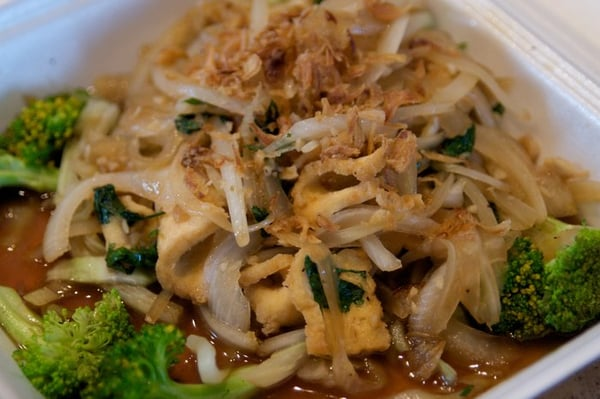curry: (4, 288, 260, 396), (10, 289, 190, 397), (492, 226, 600, 342), (0, 90, 89, 193), (92, 184, 162, 275)
sushi: (1, 0, 599, 395)
